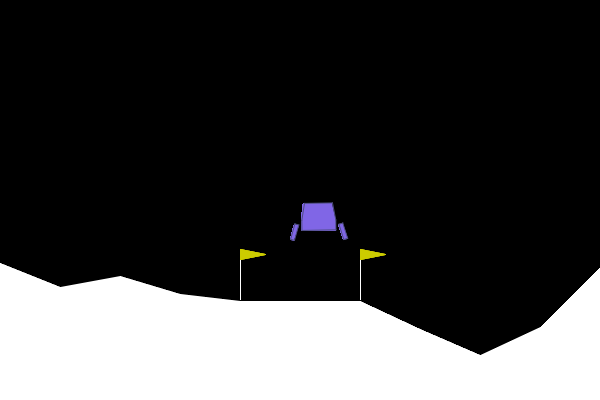lander: (288, 201, 349, 242)
